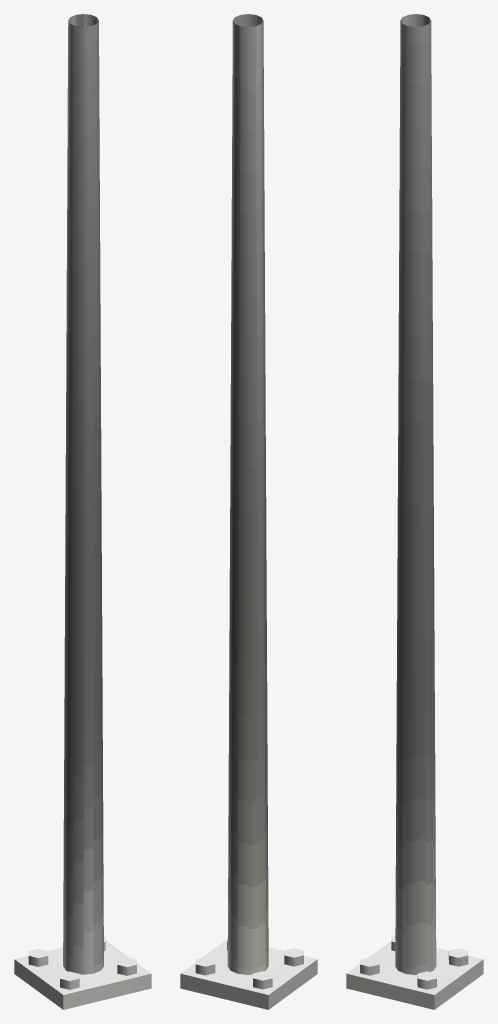
The model's file is pole.glb.
3 views of the same model, side by side, from view 1: azimuth 30°, elevation 25°; view 2: azimuth 150°, elevation 25°; view 3: azimuth 330°, elevation 25° (orthographic).
Parts seen in each view (by area): view 1: Pole; view 2: Pole; view 3: Pole.
Part boxes in pixels (x1,y1,x2,y2): Pole: (14,14,151,1009); Pole: (180,14,317,1009); Pole: (346,14,483,1009).
Size of the model in its own units: 0.3146 by 3.28 by 0.3034.
1 material, 1 textured.
